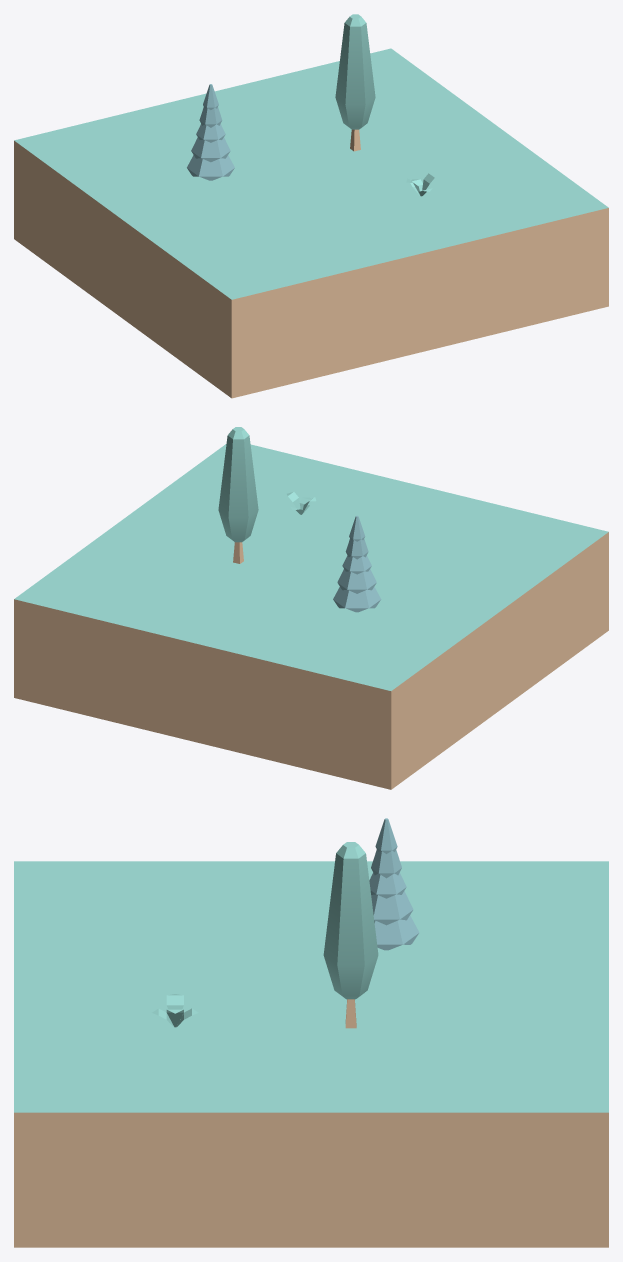
The model's file is raccoon.gltf.
The picture shows the model from 3 angles, top to bottom: view 1: azimuth 30°, elevation 25°; view 2: azimuth 150°, elevation 25°; view 3: azimuth 270°, elevation 25°; orthographic projection. The views are drawn at different scales.
Parts seen in each view (by area): view 1: ground_dirt2, tree_tall2, tree_pineSmall_round32; view 2: ground_dirt2, tree_tall2, tree_pineSmall_round32; view 3: ground_dirt2, tree_tall2, tree_pineSmall_round32, plant_bush2.
Boxes of the visible parts, left/top/right/bottom form: ground_dirt2: left=14, top=48, right=608, bottom=398; tree_tall2: left=335, top=14, right=375, bottom=151; tree_pineSmall_round32: left=187, top=84, right=234, bottom=180; ground_dirt2: left=14, top=444, right=608, bottom=789; tree_tall2: left=218, top=427, right=258, bottom=563; tree_pineSmall_round32: left=333, top=515, right=381, bottom=612; ground_dirt2: left=14, top=861, right=608, bottom=1247; tree_tall2: left=323, top=842, right=378, bottom=1028; tree_pineSmall_round32: left=369, top=818, right=419, bottom=950; plant_bush2: left=152, top=994, right=198, bottom=1027.
Size of the model in its own units: 5 by 2.93 by 5.
